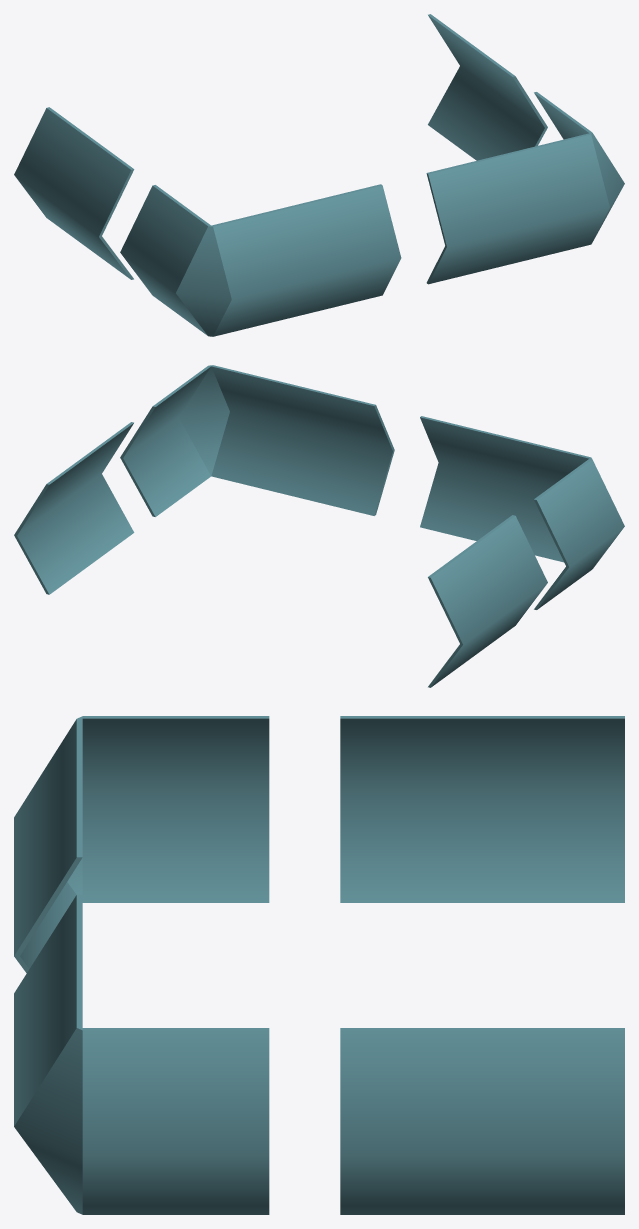
File: VaderCastle_Glass_Bot.fbx
The picture shows the model from 3 angles, top to bottom: view 1: azimuth 30°, elevation 25°; view 2: azimuth 150°, elevation 25°; view 3: azimuth 270°, elevation 25°; orthographic projection. The views are drawn at different scales.
Visible parts, largest first — view 1: VasderCastleGlassBot; view 2: VasderCastleGlassBot; view 3: VasderCastleGlassBot.
Boxes of the visible parts, left/top/right/bottom form: VasderCastleGlassBot: left=14, top=14, right=624, bottom=336; VasderCastleGlassBot: left=14, top=365, right=624, bottom=687; VasderCastleGlassBot: left=14, top=716, right=624, bottom=1214.
Bounding box in the file's own units: 18.05 × 4.22 × 12.69.
